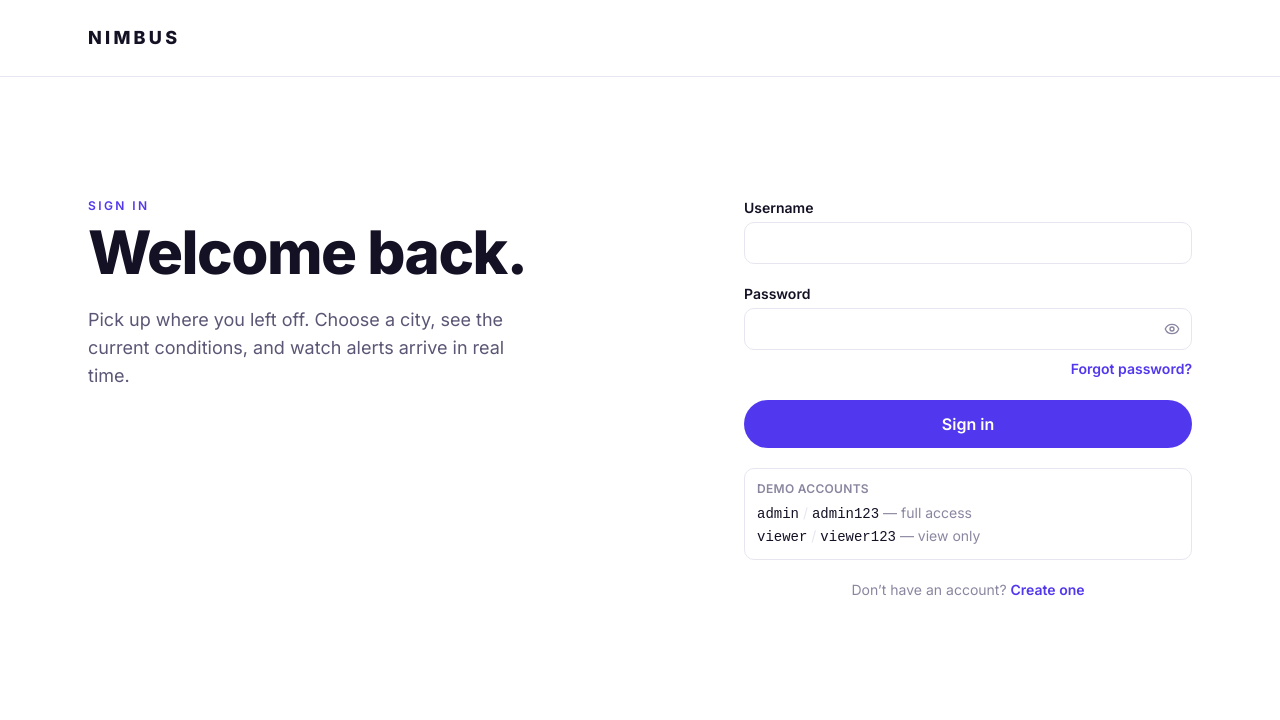
Scenario: LoginPage › shows "Could not reach the server." on a non-ApiError rejection
In the field labelled "Username": (968, 242) [744, 222, 1192, 264], type "demo"
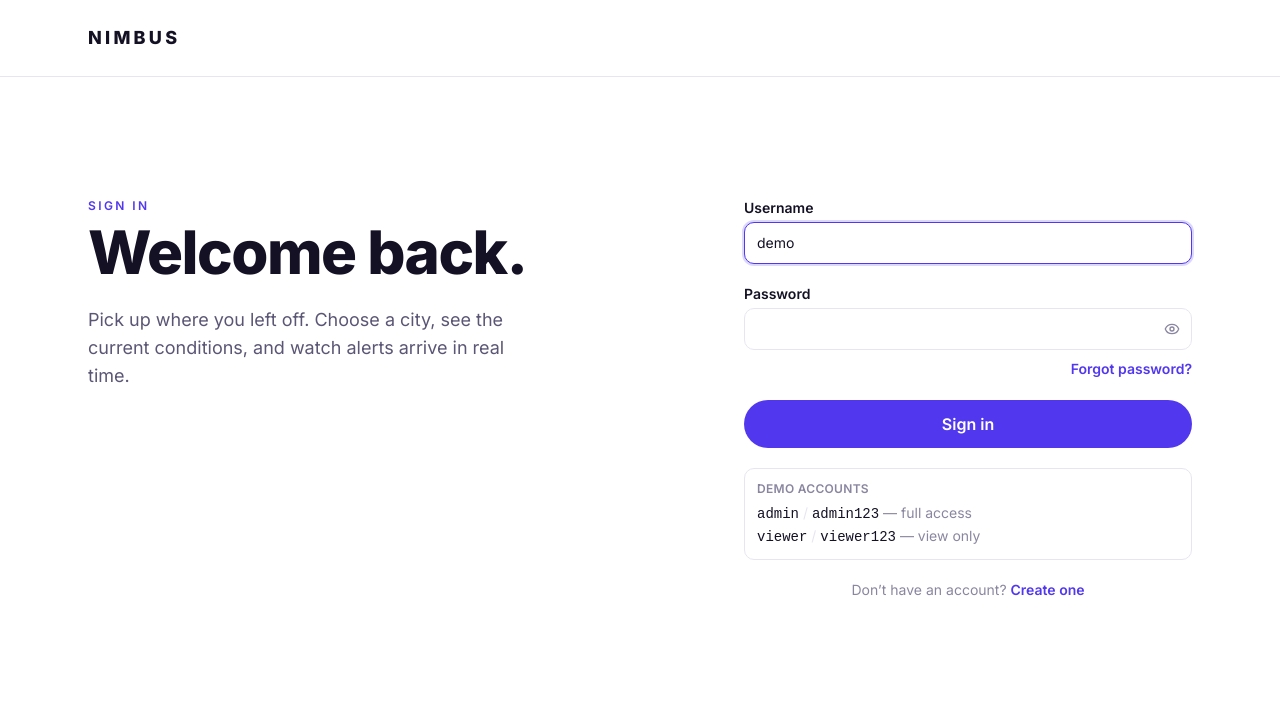
In the password field labelled "Password": (968, 328) [744, 308, 1192, 350], type "demo123"
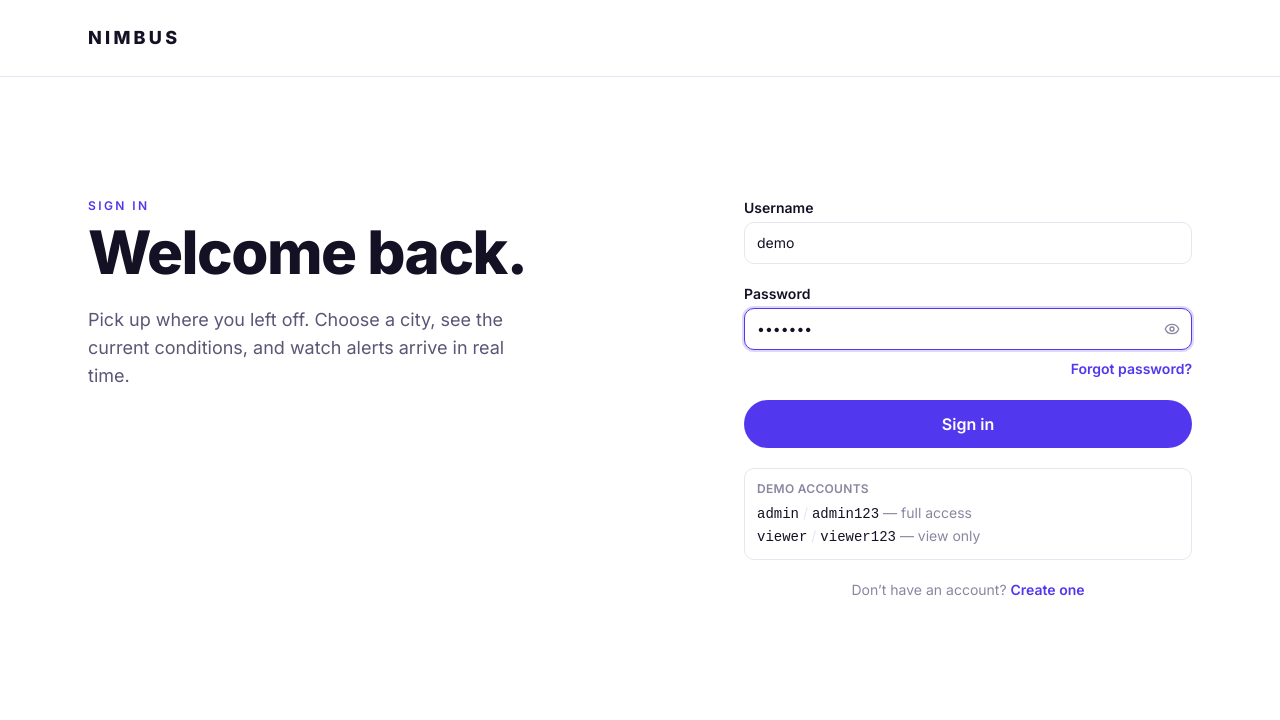
Click the button "Sign in": (968, 424) [744, 400, 1192, 448]
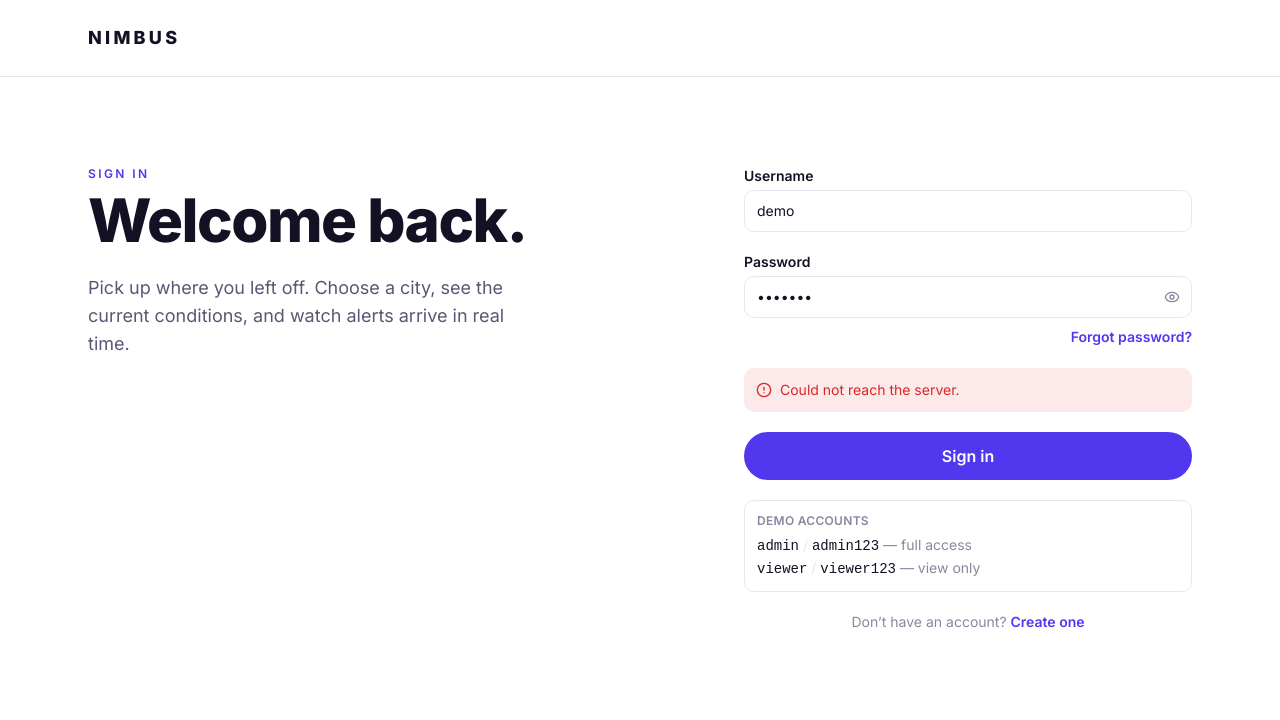
Now the message shows "Could not reach the server", box [780, 380, 960, 398]
